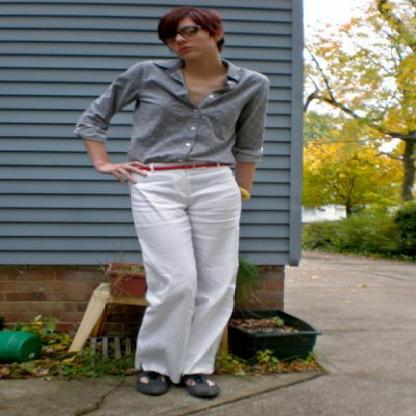pants: (130, 163, 240, 374)
shirt: (67, 58, 280, 168)
shoe: (137, 372, 227, 400)
